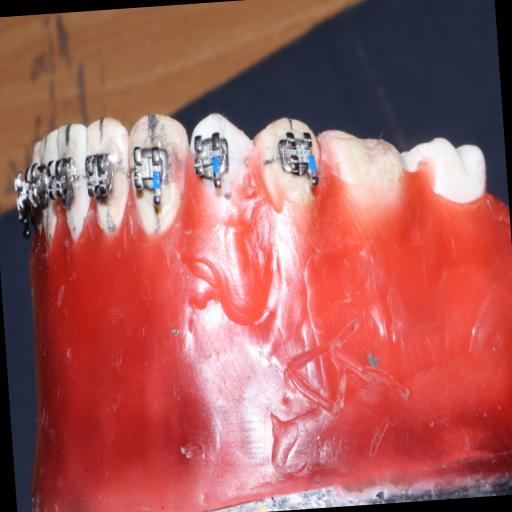correct_brace: (185, 110, 256, 198)
incorrect_brace: (189, 132, 234, 182)
